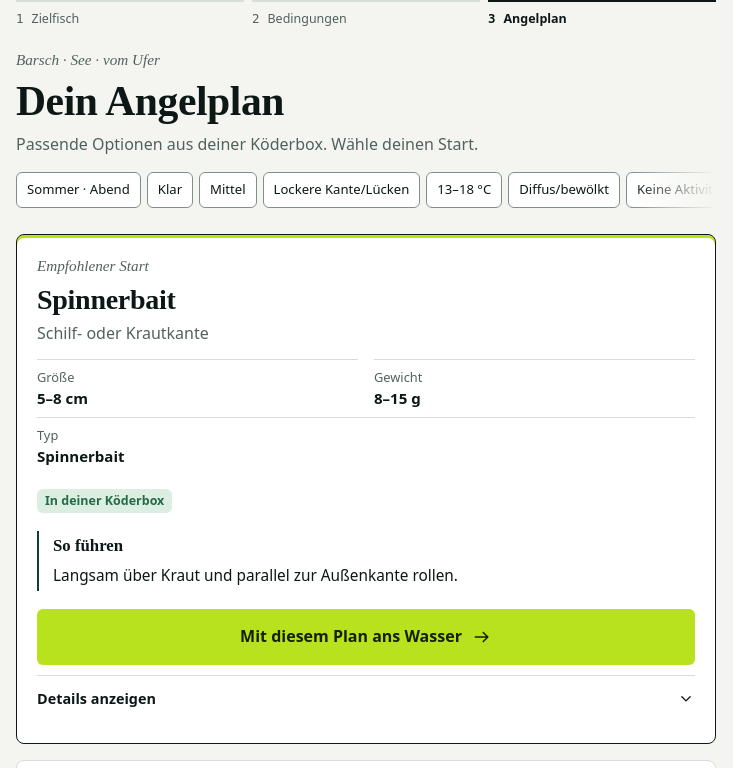
Test: UX-Paket › zeigt jeden vorhandenen Köder einmal und öffnet Details auf Wunsch
This screenshot has width=733, height=768.
Check: the number of headings "Spinnerbait" is 1, box left=37, top=284, right=176, bottom=316
Click the button "Details anzeigen".
click(96, 699)  # box left=37, top=675, right=695, bottom=723
(page scrolled)
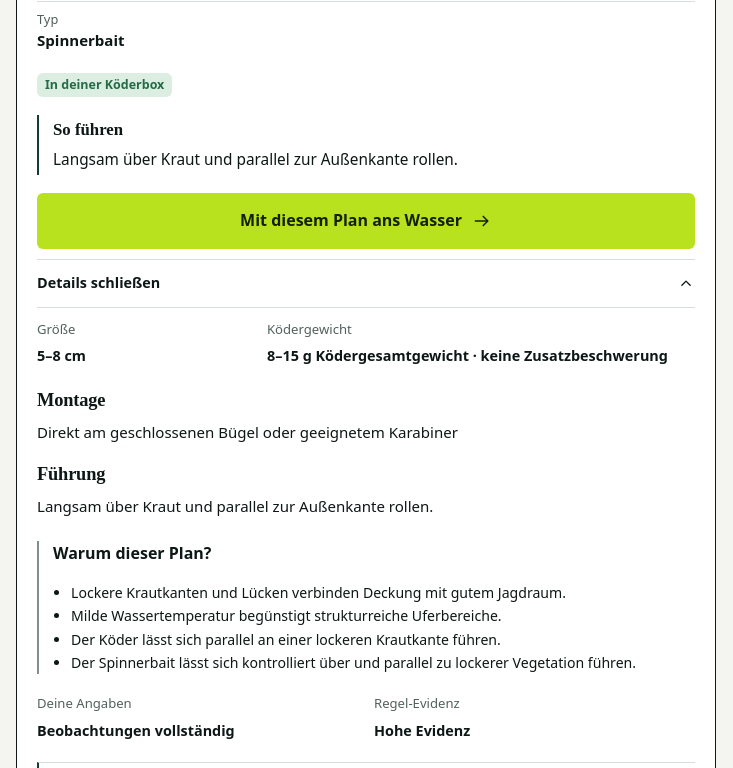
Check: the button "Details schließen" is expanded, box left=37, top=259, right=695, bottom=307
Check: the element named "Montage und Führung" is shown, box left=37, top=320, right=695, bottom=519
